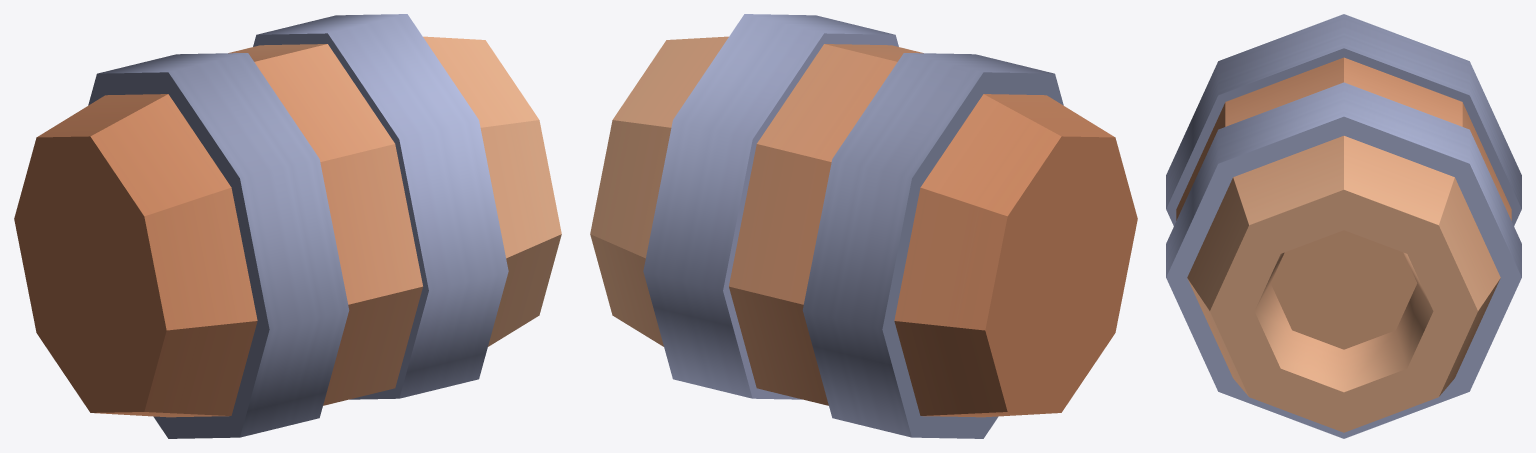
File: barrel.fbx
The picture shows the model from 3 angles, left to right: view 1: azimuth 30°, elevation 25°; view 2: azimuth 150°, elevation 25°; view 3: azimuth 270°, elevation 25°; orthographic projection. The views are drawn at different scales.
Parts seen in each view (by area): view 1: barrel; view 2: barrel; view 3: barrel.
Part boxes in pixels (x1,y1,x2,y2): barrel: (14,14,561,438); barrel: (590,14,1137,438); barrel: (1166,14,1521,438).
Size of the model in its own units: 151 by 134 by 134.
